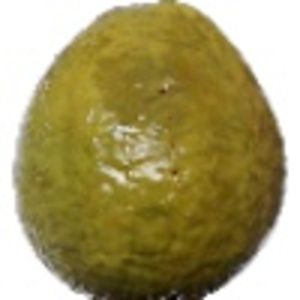goiaba: (10, 4, 286, 298)
